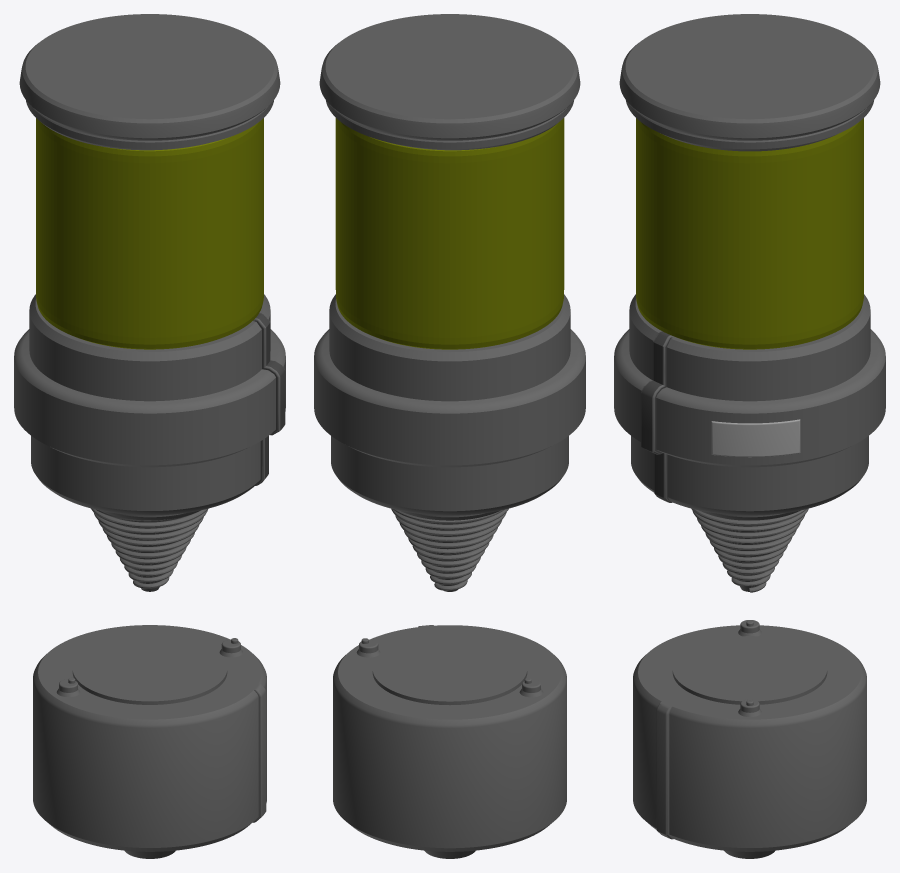
The model's file is Battery_test.fbx.
3 renders of one model, left to right at view 1: azimuth 30°, elevation 25°; view 2: azimuth 150°, elevation 25°; view 3: azimuth 270°, elevation 25°, orthographic.
Visible parts, largest first — view 1: Cylinder, Cylinder.001, Cylinder.002, Cylinder.003; view 2: Cylinder, Cylinder.001, Cylinder.002, Cylinder.003; view 3: Cylinder, Cylinder.001, Cylinder.002, Cylinder.003.
Part boxes in pixels (left/top/right/bottom): Cylinder: left=14, top=14, right=285, bottom=591; Cylinder.001: left=36, top=118, right=263, bottom=349; Cylinder.002: left=33, top=625, right=266, bottom=858; Cylinder.003: left=72, top=636, right=227, bottom=704; Cylinder: left=314, top=14, right=585, bottom=591; Cylinder.001: left=335, top=118, right=564, bottom=349; Cylinder.002: left=333, top=625, right=566, bottom=858; Cylinder.003: left=372, top=636, right=527, bottom=705; Cylinder: left=614, top=14, right=885, bottom=592; Cylinder.001: left=636, top=118, right=863, bottom=349; Cylinder.002: left=633, top=620, right=866, bottom=858; Cylinder.003: left=672, top=636, right=827, bottom=704.
Bounding box in the file's own units: 114 × 361 × 114.
